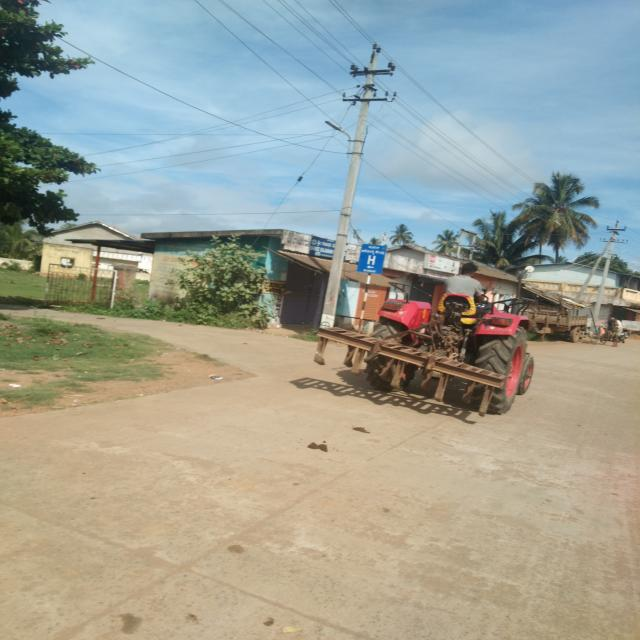Tractor: (310, 262, 561, 428)
